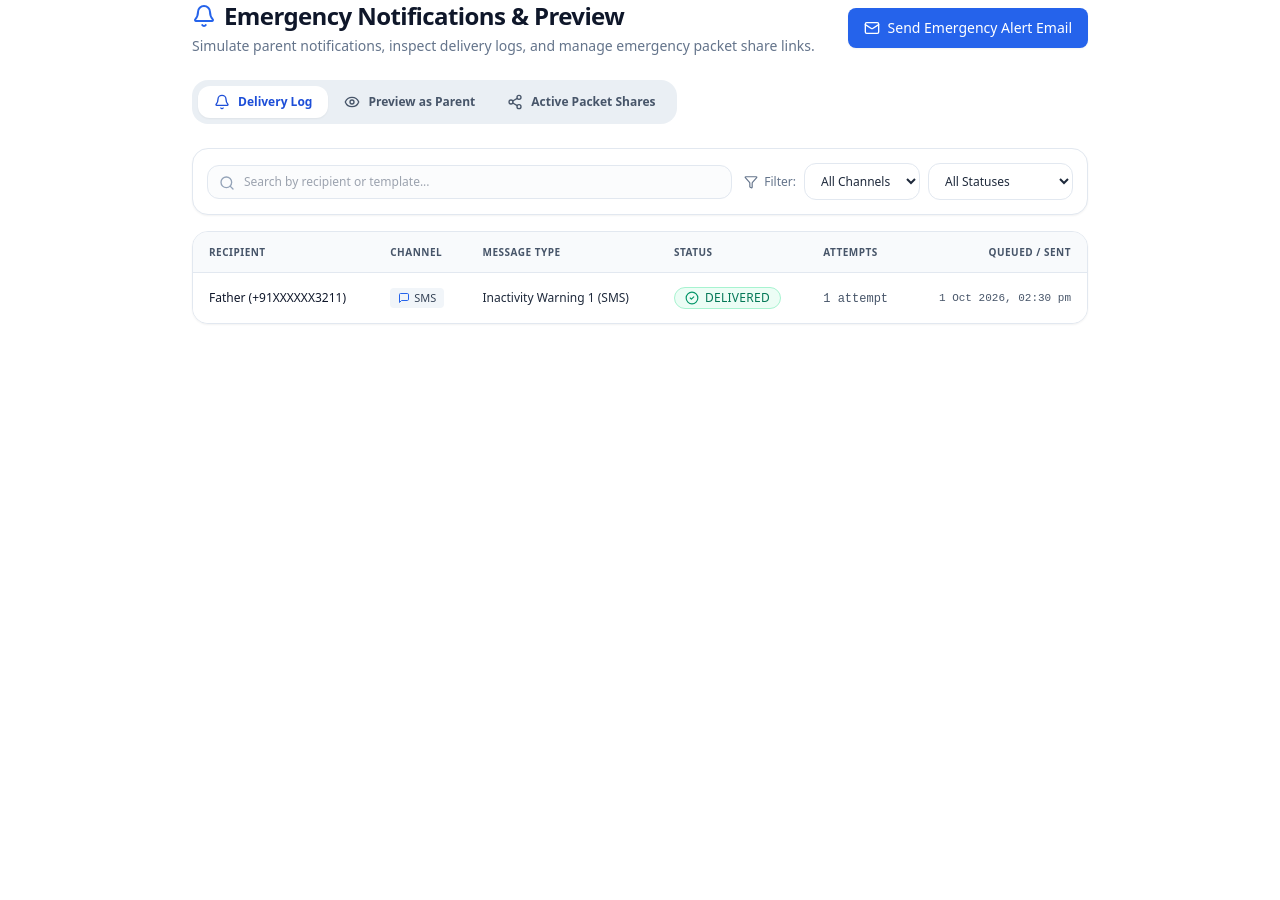
Test: Notifications & Preview Feature (Phase 7) › renders Preview-as-Parent with safety banner, SMS, Email, and Packet tabs passing axe
Switch to Preview as Parent tab
Click the tab "Preview as Parent": [410, 102] box [328,86,491,118]
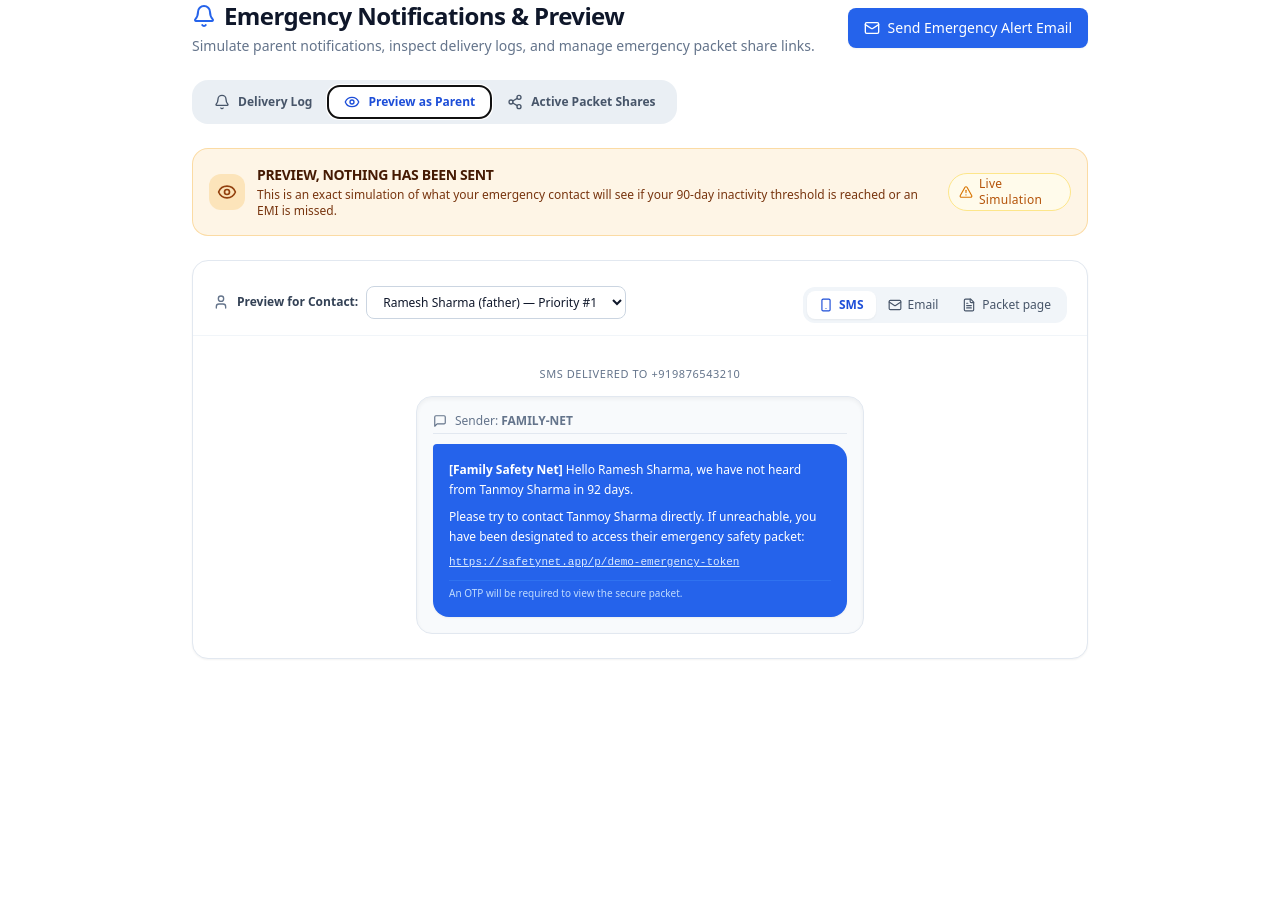
Check: the heading "Preview, nothing has been sent" is shown, box [257,165,494,184]
Check: the text "FAMILY-NET" is shown, box [501,412,573,429]
Check: the text "we have not heard from tanmoy sharma in 92 days" is shown, box [449,460,831,499]
Switch to Email tab
Click the tab "Email": [913, 305] box [876,291,950,319]
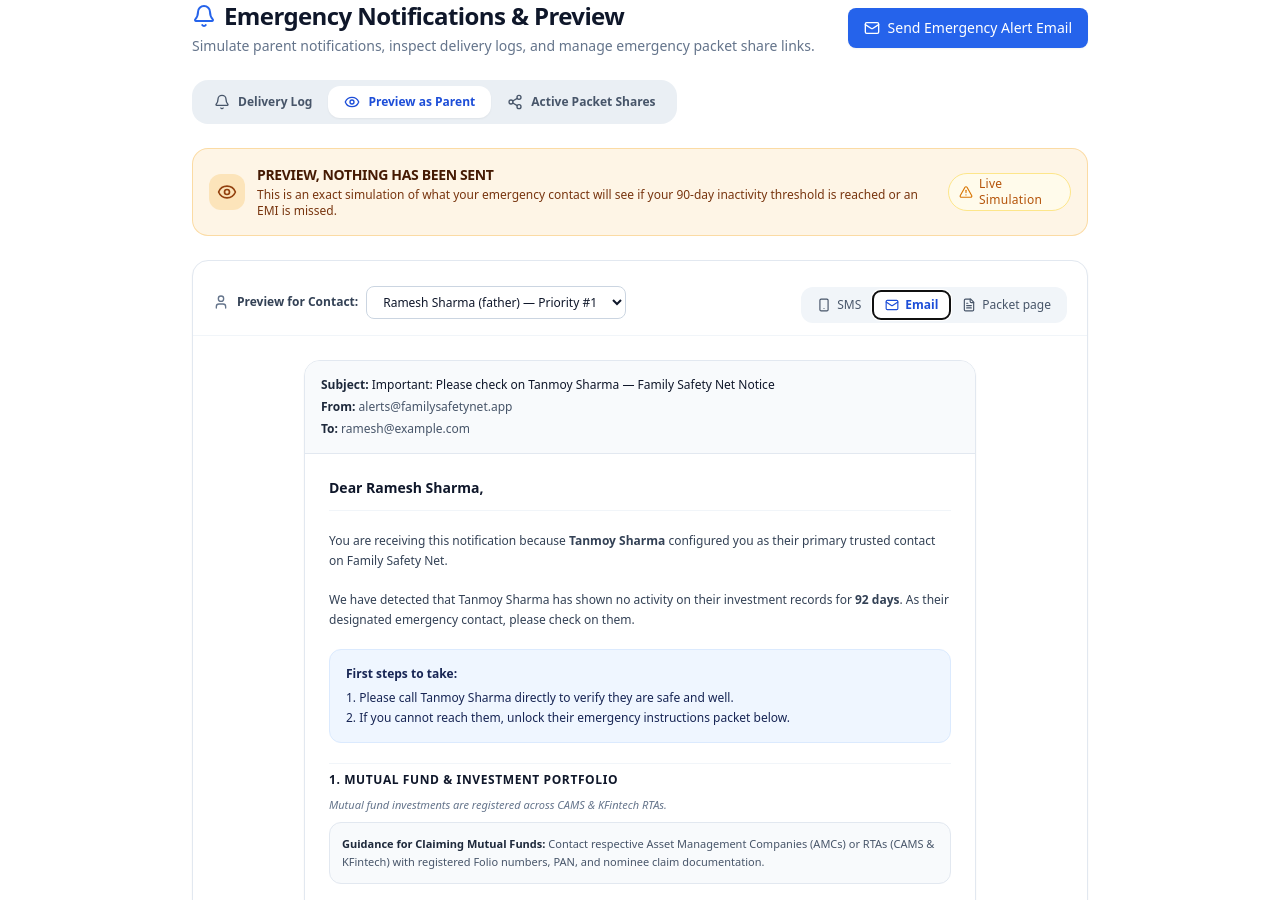
Check: the text "Important: Please check on Tanmoy Sharma — Family Safety Net Notice" is shown, box [372,376,775,393]
Check: the heading "Dear Ramesh Sharma," is shown, box [329,478,484,497]
Switch to Packet page tab
Click the tab "Packet page": [1007, 305] box [950,291,1063,319]
(page scrolled)
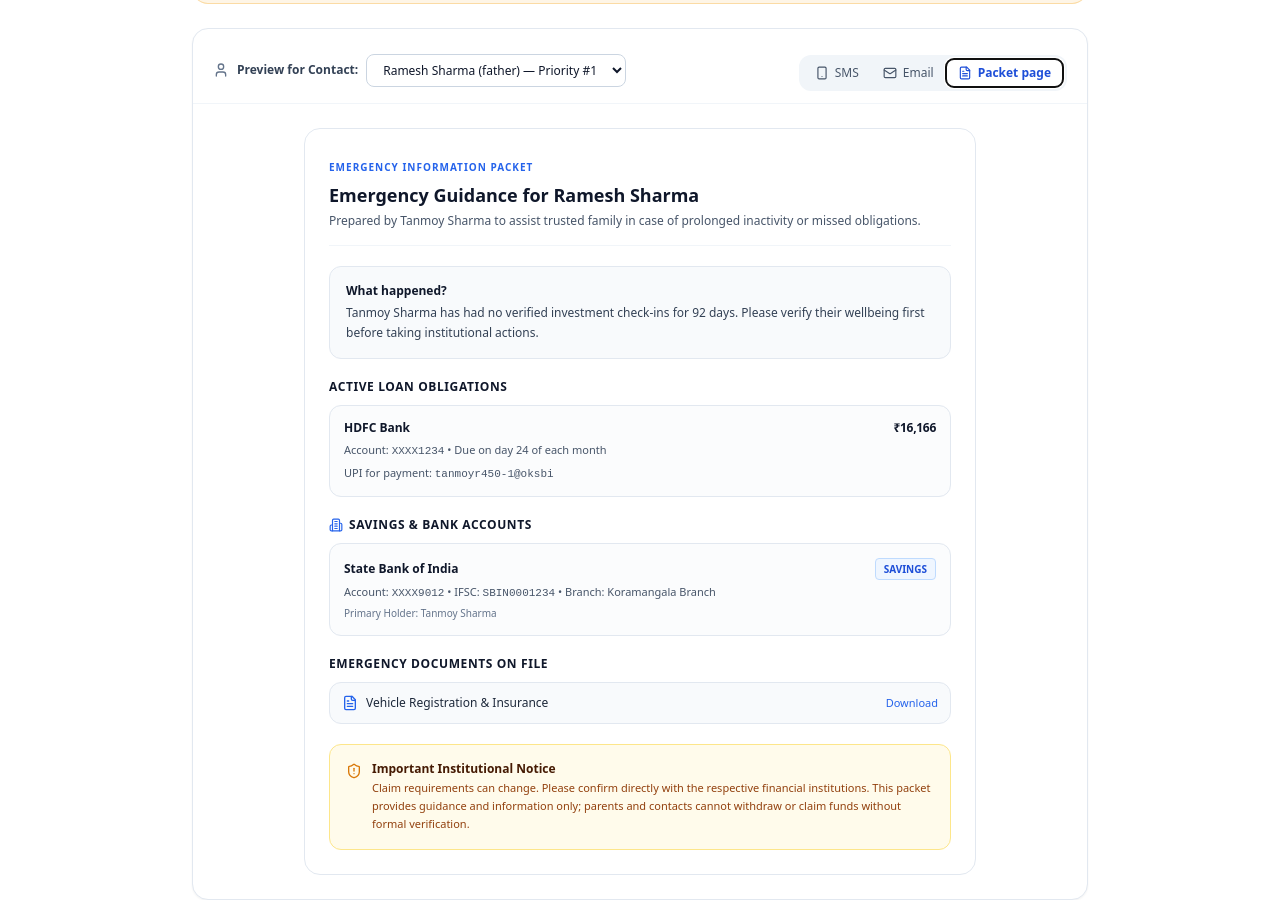
Check: the text "HDFC Bank" is shown, box [344,420,410,436]
Check: the heading "Emergency Guidance for Ramesh Sharma" is shown, box [329,183,699,207]
Check: the text "Vehicle Registration & Insurance" is shown, box [366,695,548,711]
